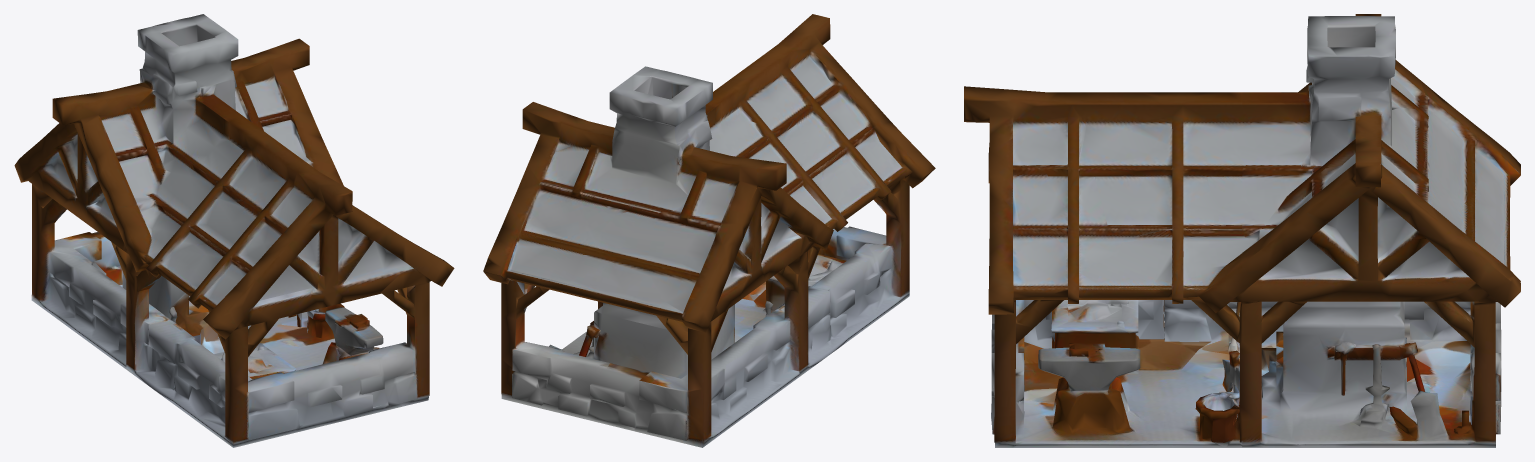
The model's file is medievalSmithy.fbx.
The picture shows the model from 3 angles, left to right: view 1: azimuth 30°, elevation 25°; view 2: azimuth 150°, elevation 25°; view 3: azimuth 270°, elevation 25°; orthographic projection. The views are drawn at different scales.
Visible parts, largest first — view 1: tripo_node_0eb9b167; view 2: tripo_node_0eb9b167; view 3: tripo_node_0eb9b167.
Part boxes in pixels (x1,y1,x2,y2): tripo_node_0eb9b167: [14, 14, 454, 447]; tripo_node_0eb9b167: [483, 14, 935, 447]; tripo_node_0eb9b167: [964, 14, 1520, 447].
Size of the model in its own units: 0.6357 by 0.6998 by 0.9999.
Materials: 1 (1 with a texture image).
